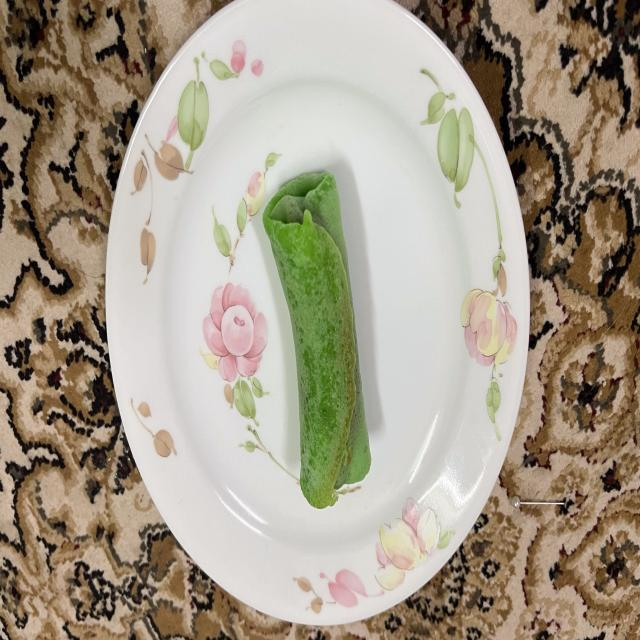Kuih-Ketayap: (262, 173, 371, 509)
